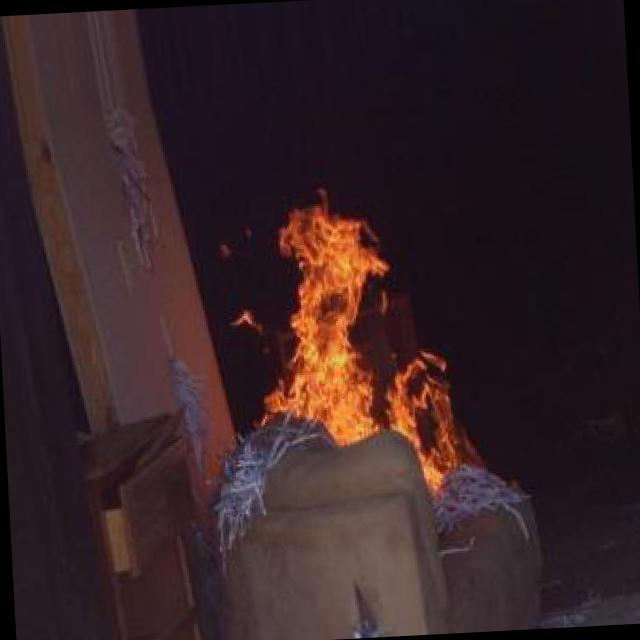Fire: (263, 178, 471, 501)
